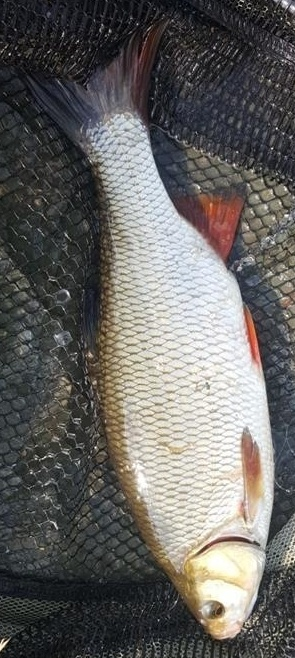Leuciscus idus: (20, 20, 275, 638)
